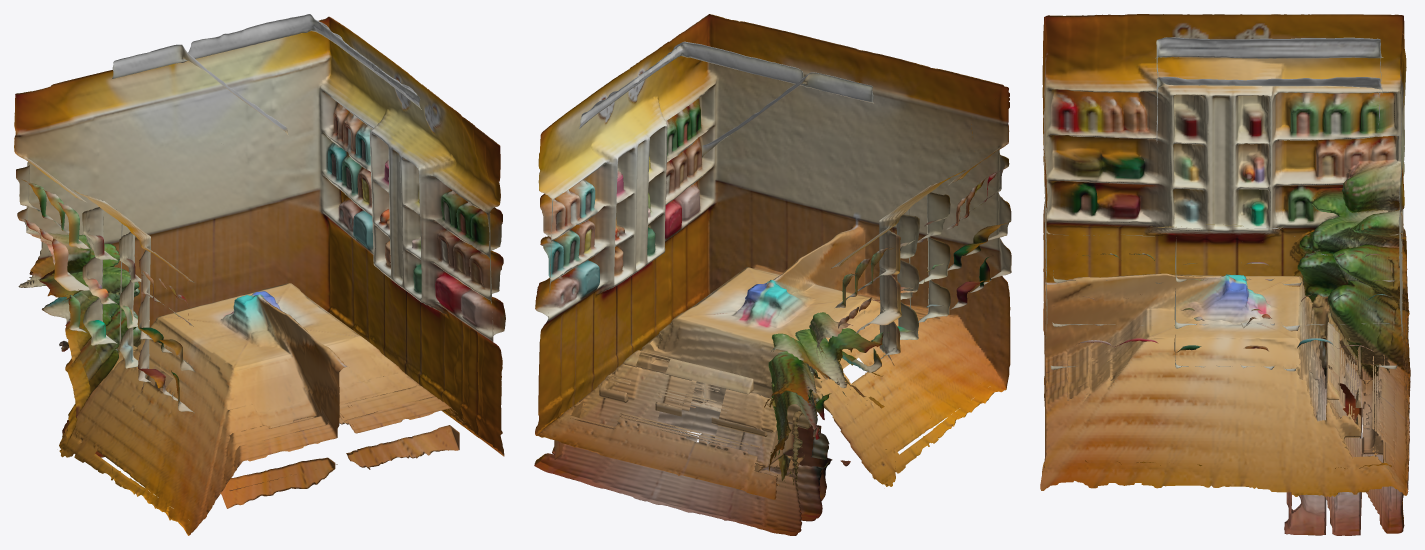
File: depop-collider.glb
The picture shows the model from 3 angles, left to right: view 1: azimuth 30°, elevation 25°; view 2: azimuth 150°, elevation 25°; view 3: azimuth 270°, elevation 25°; orthographic projection. The views are drawn at different scales.
Parts seen in each view (by area): view 1: world; view 2: world; view 3: world.
Part boxes in pixels (bbox=[...]): world: bbox=[14, 14, 505, 535]; world: bbox=[534, 14, 1011, 535]; world: bbox=[1040, 14, 1410, 535].
Size of the model in its own units: 4.09 by 4.51 by 3.86.
